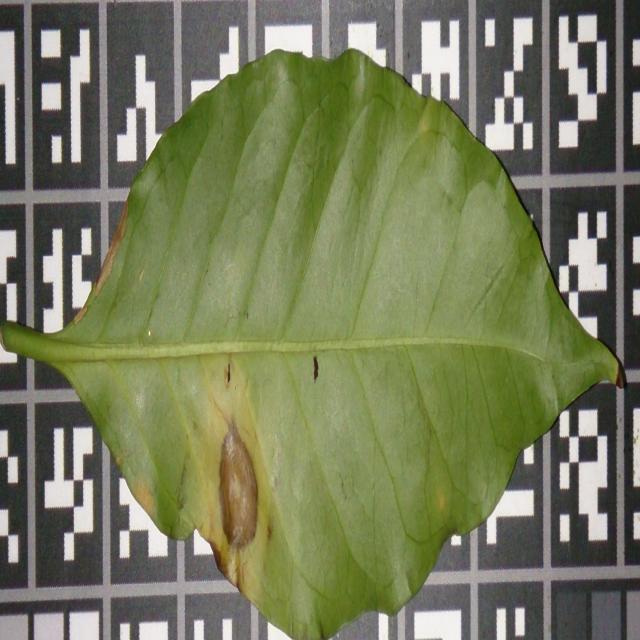Enfermedad-Mancha-de-hierro: (0, 47, 621, 640)
